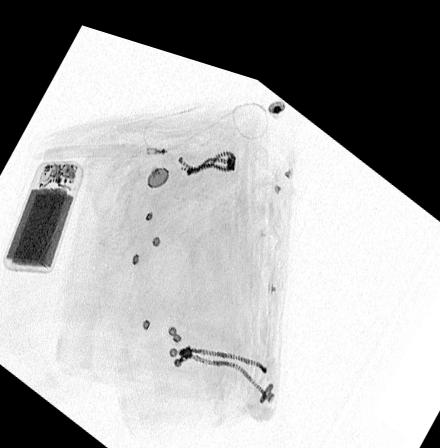Powerbank: (3, 155, 85, 271)
